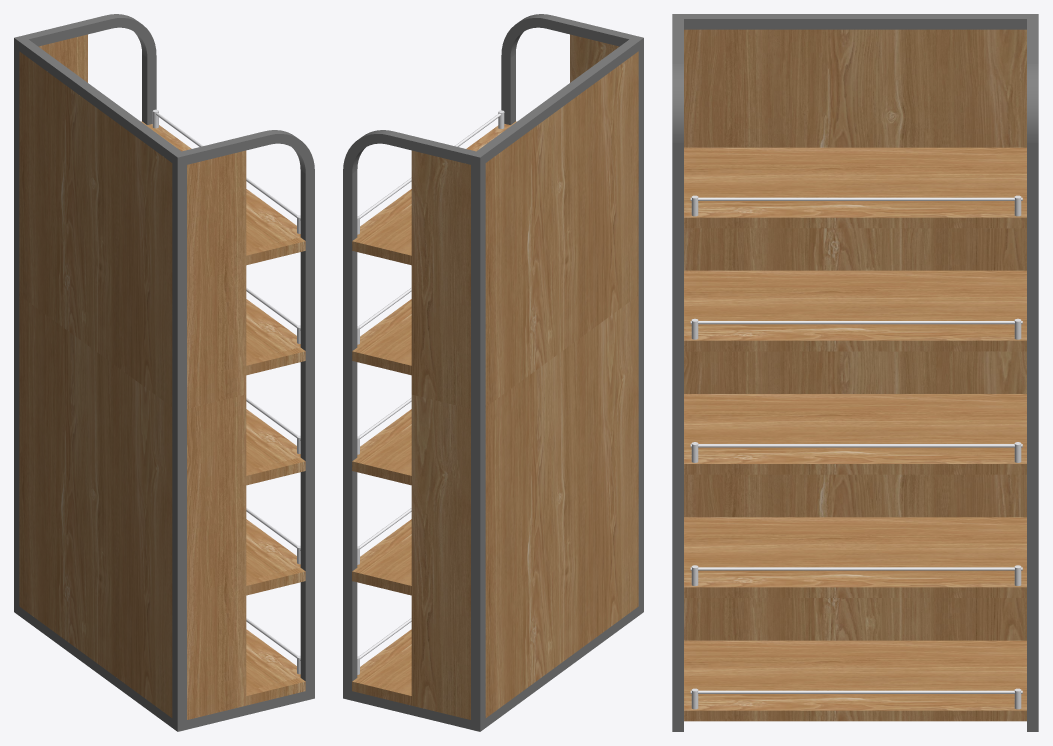
The model's file is shelve.gltf.
The picture shows the model from 3 angles, left to right: view 1: azimuth 30°, elevation 25°; view 2: azimuth 150°, elevation 25°; view 3: azimuth 270°, elevation 25°; orthographic projection. The views are drawn at different scales.
Parts seen in each view (by area): view 1: shelve; view 2: shelve; view 3: shelve.
Part boxes in pixels (x1,y1,x2,y2): shelve: (14, 14, 314, 731); shelve: (343, 14, 643, 731); shelve: (672, 14, 1038, 731).
Bounding box in the file's own units: 0.3 × 1.2 × 0.62.
Materials: 3 (1 with a texture image).
